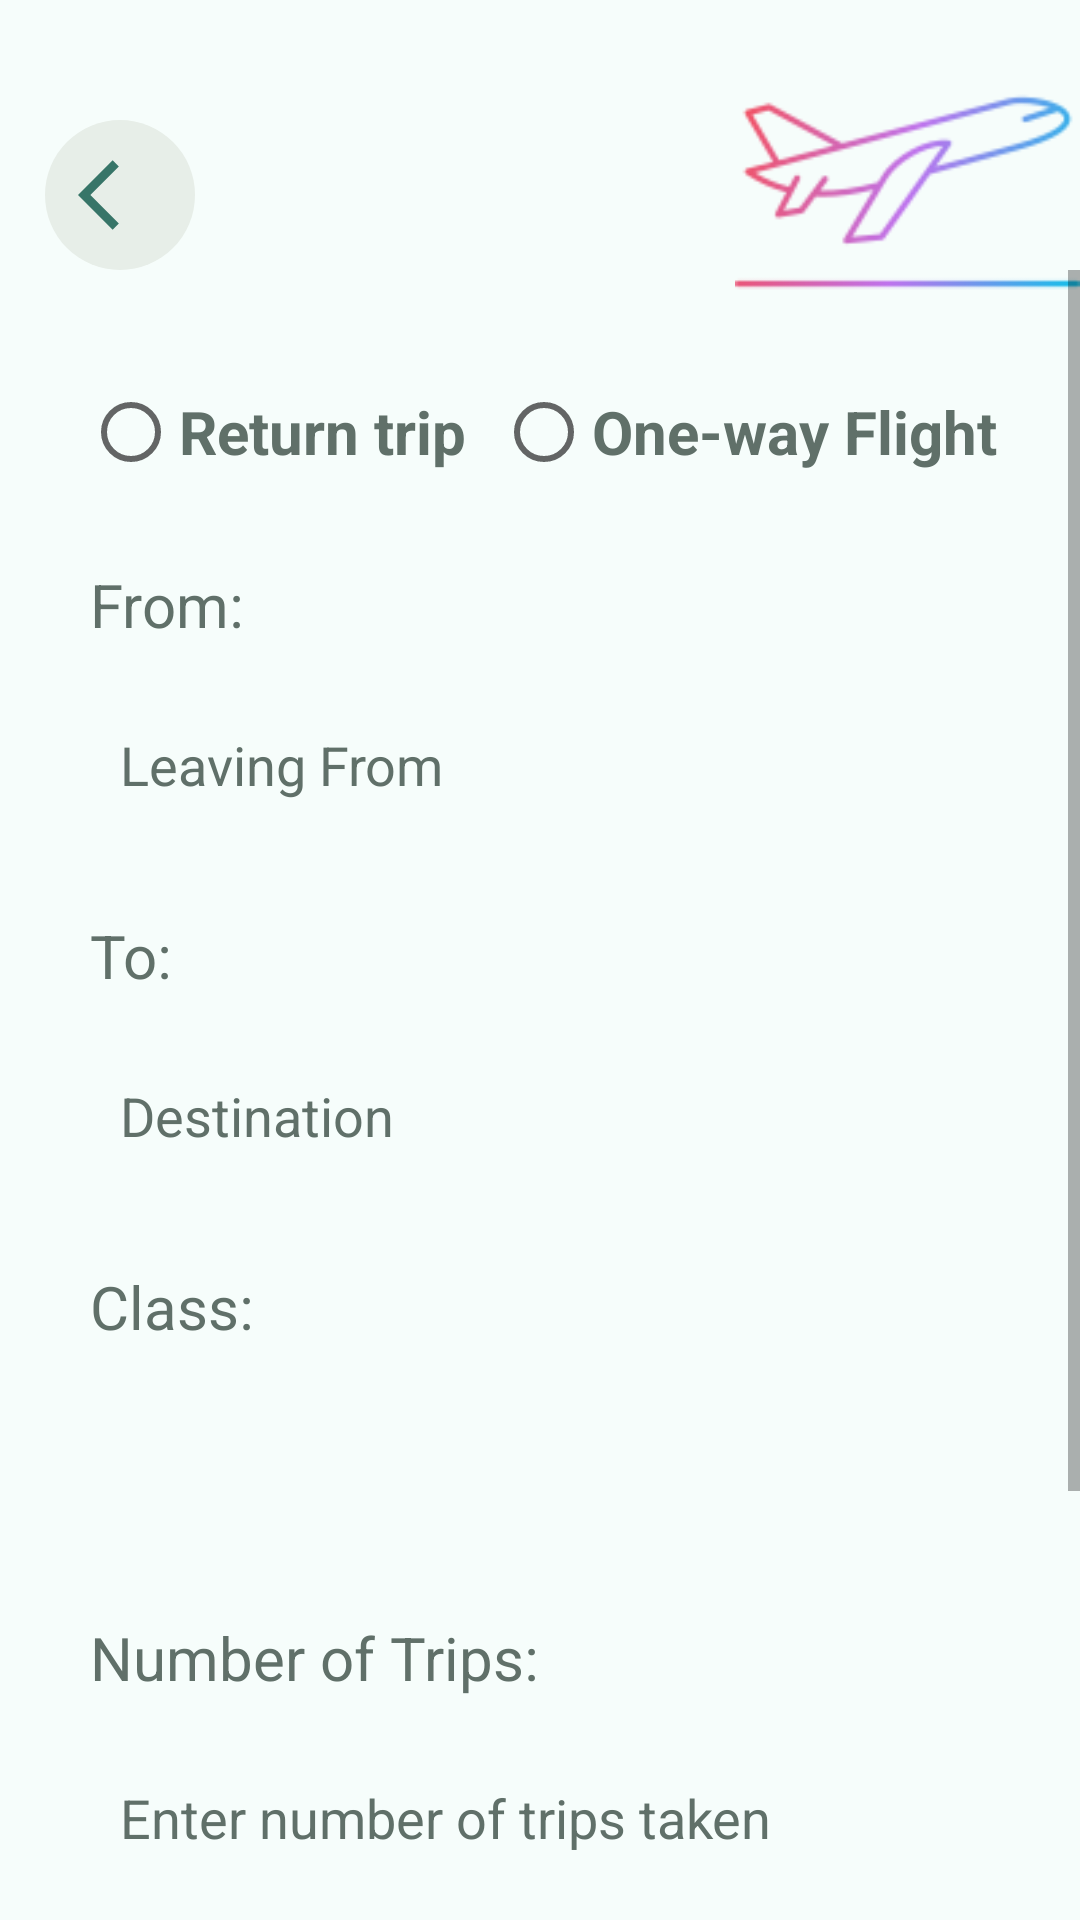

Screen size 1080px×1920px. Icon name, then its box in pixels as (x1, y1, x2, y2):
arrow back: (45, 120, 195, 270)
takeoff: (743, 96, 1072, 244)
